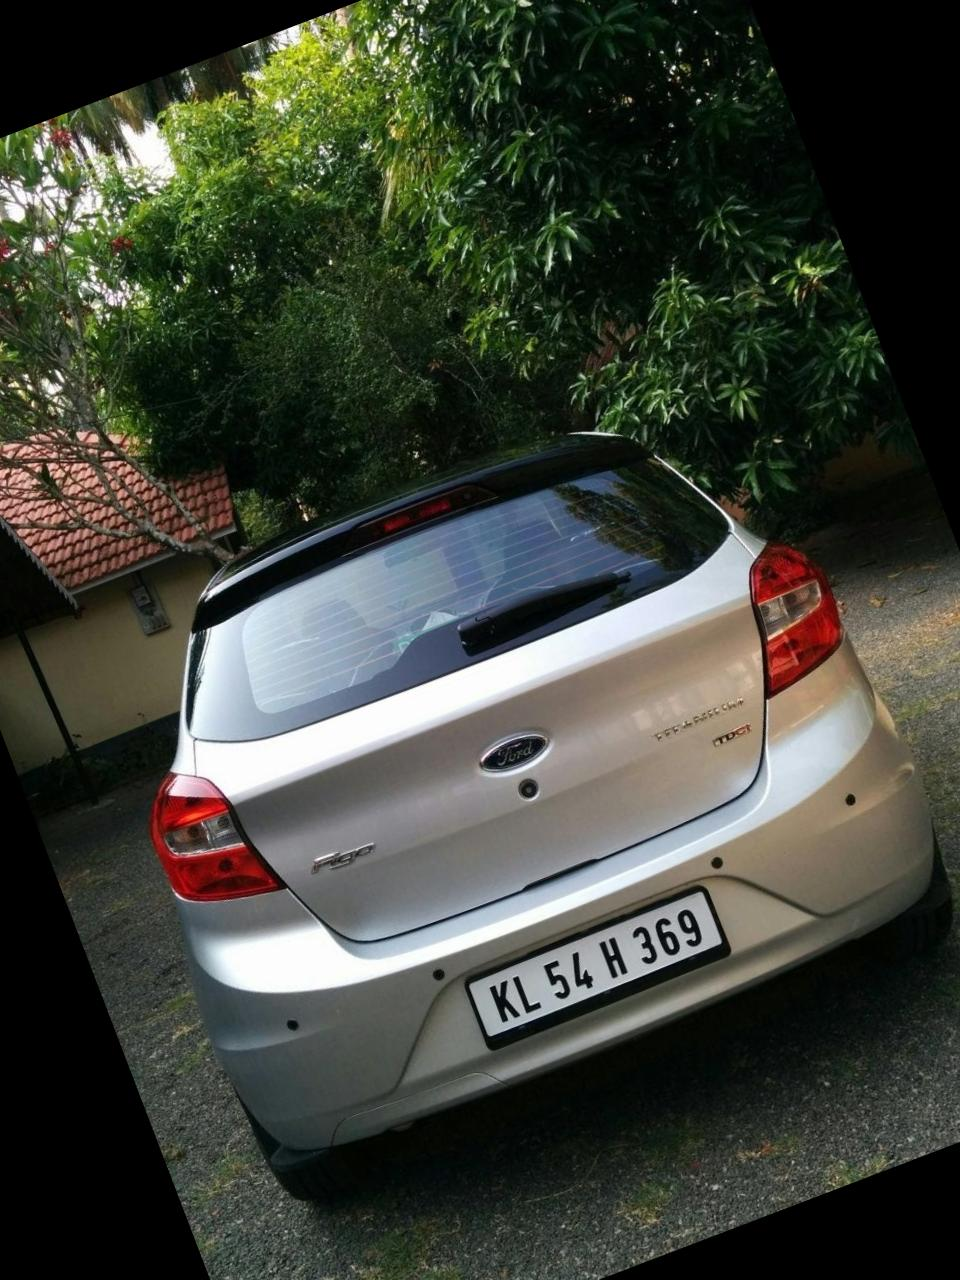plate: (447, 855, 785, 1086)
